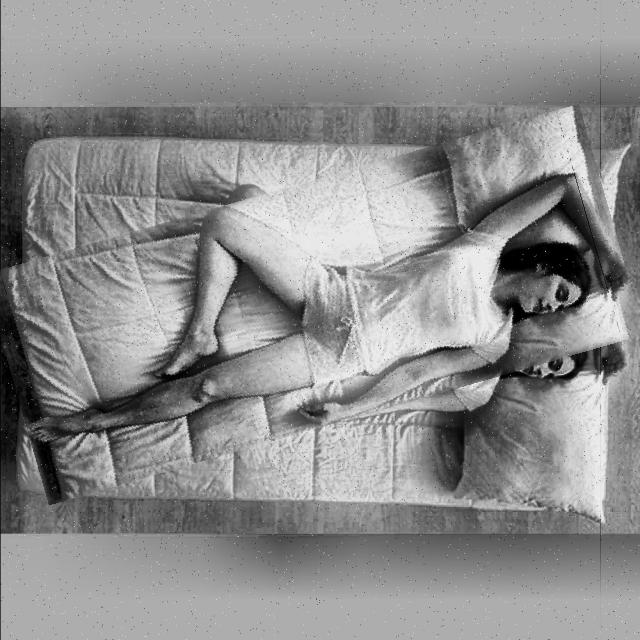Supine: (27, 176, 628, 443)
